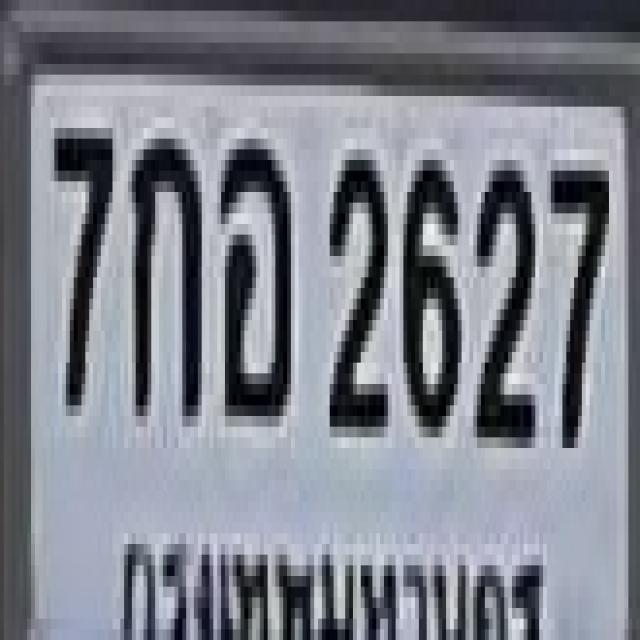2: (472, 144, 530, 432), (326, 138, 384, 426)
6: (400, 149, 458, 427)
7: (51, 117, 108, 406), (547, 155, 605, 432)
A01: (128, 128, 198, 405)
A43: (217, 128, 287, 405)
